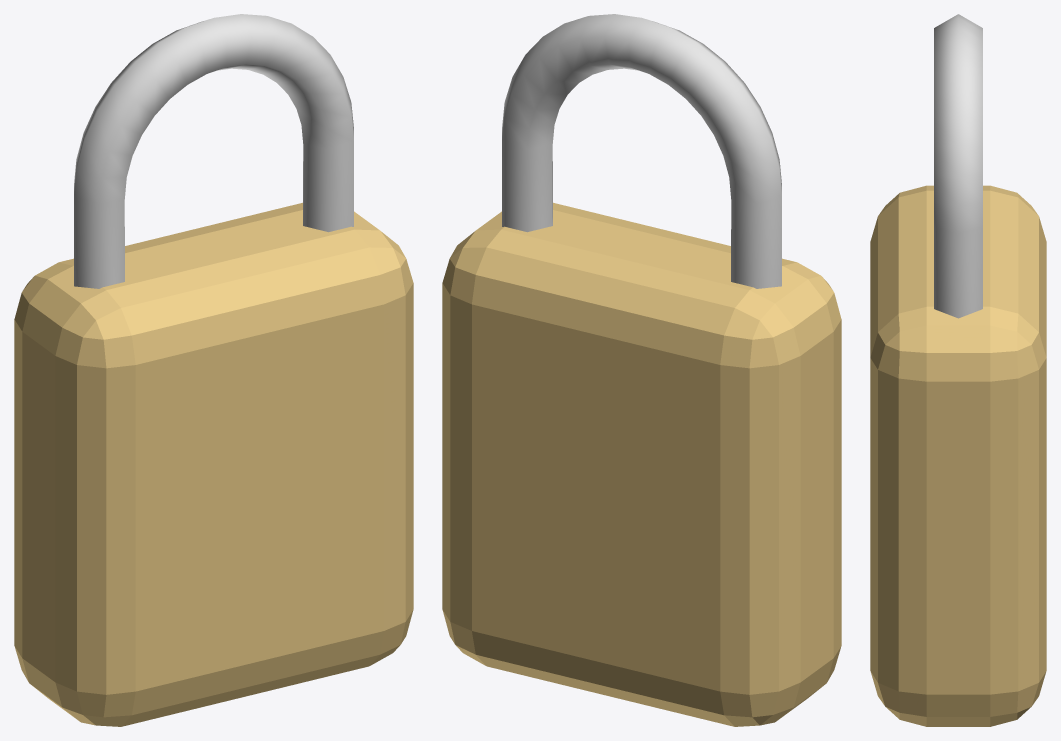
The model's file is padlock.glb.
The picture shows the model from 3 angles, left to right: view 1: azimuth 30°, elevation 25°; view 2: azimuth 150°, elevation 25°; view 3: azimuth 270°, elevation 25°; orthographic projection. The views are drawn at different scales.
Visible parts, largest first — view 1: padlock; view 2: padlock; view 3: padlock.
Boxes of the visible parts, box(x1,y1,x2,y2) form: padlock: box(14, 14, 413, 726); padlock: box(442, 14, 841, 726); padlock: box(870, 14, 1046, 726).
Bounding box in the file's own units: 0.055 × 0.0995 × 0.025.
